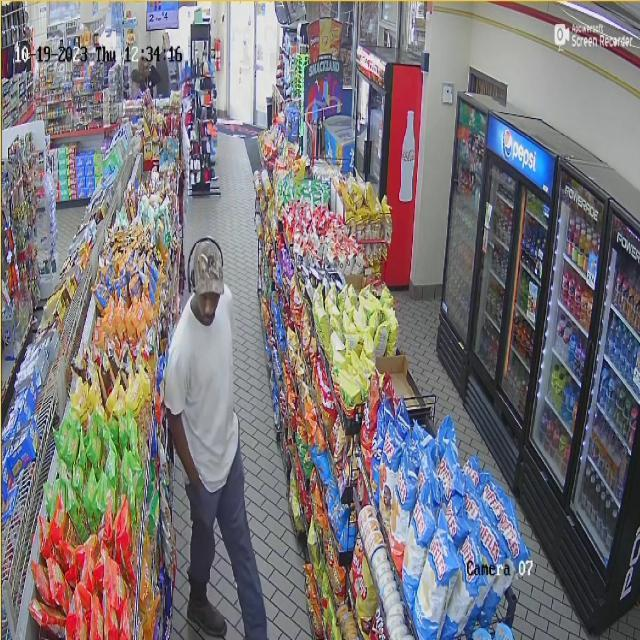Normal: (164, 223, 272, 640)
